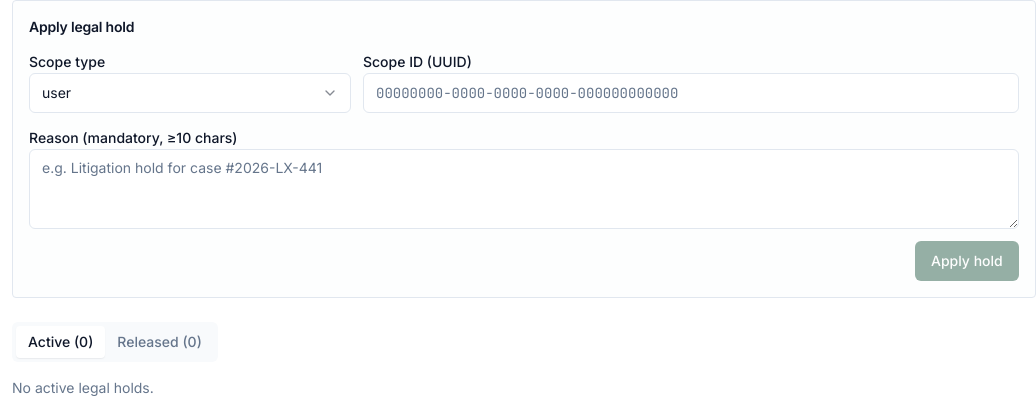
Test: AdminLegalHoldsPanel — MFA gating (Batch 1 fix #1) › does NOT render the MFA banner when AAL is aal2 and Apply enables on valid input
The width and height of the screenshot is (1036, 413).
Type "22222222-bbbb-4bbb-8bbb-222222222222" into the field labelled "Scope ID (UUID)" at (691, 93), box [363, 73, 1019, 113]
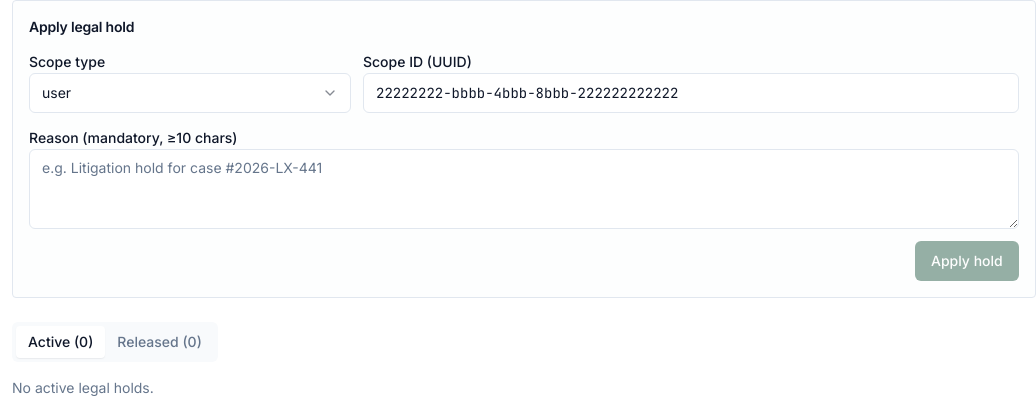
Type "Litigation hold reasoning that is long enough" into the text box labelled "Reason (mandatory, ≥10 chars)" at (524, 189), box [29, 149, 1019, 229]
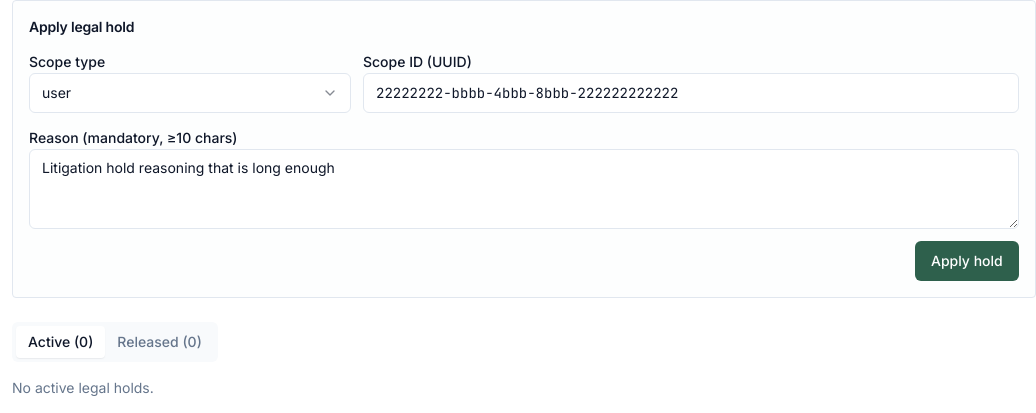
Expected: the button "Apply hold" is enabled, [915, 241, 1019, 281]
